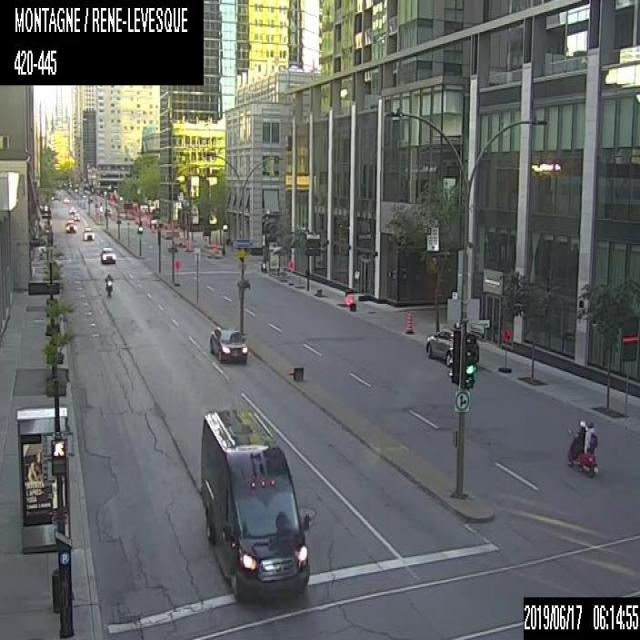construction: (284, 363, 304, 381), (404, 310, 414, 334), (348, 295, 356, 309)
vehicle: (199, 406, 310, 602), (424, 325, 478, 364), (566, 417, 598, 476), (208, 325, 248, 364), (99, 244, 117, 263), (81, 226, 94, 242), (104, 272, 112, 297), (64, 221, 75, 232), (161, 229, 171, 239), (136, 223, 144, 233), (87, 195, 94, 204), (68, 204, 75, 212), (73, 212, 80, 220)
